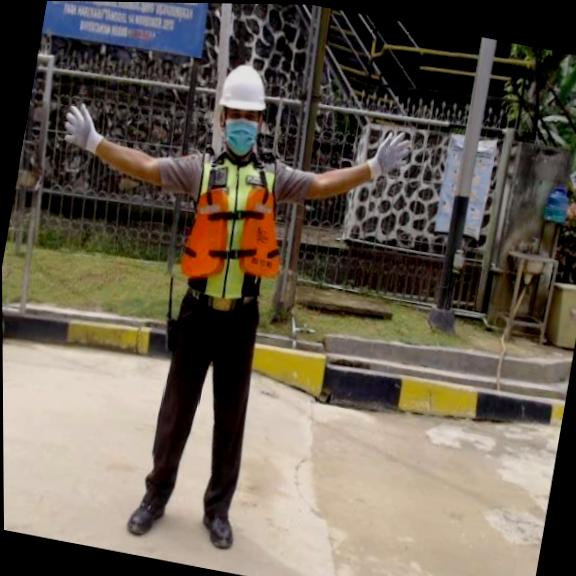safety_vest: (174, 172, 295, 293)
